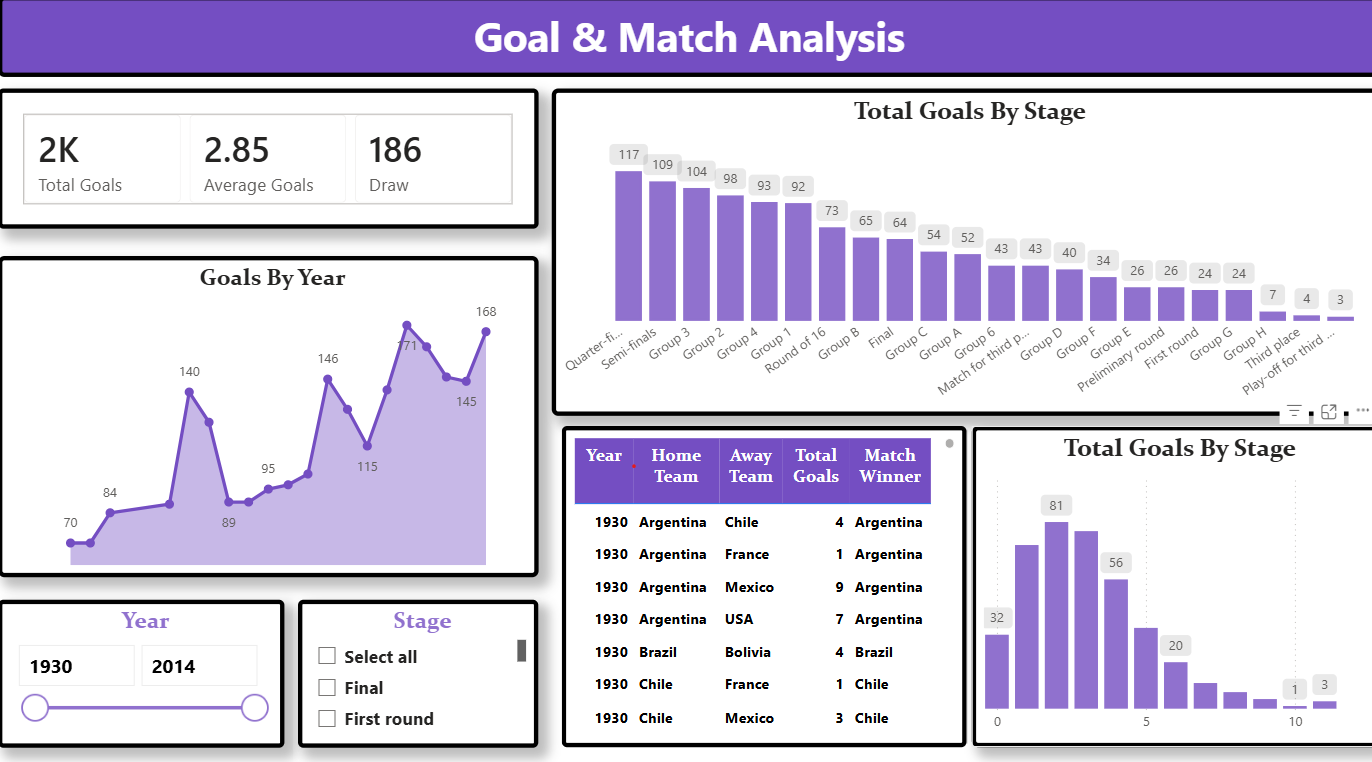

The page's visual inventory and layout, read from the dashboard file:
{"tool":"powerbi","page":{"name":"Goal and Match Analysis","canvas":[1280,720],"ordinal":4},"visuals":[{"type":"textbox","title":"Team Performace Analysis","box":[4.1,0,1270.7,74.1],"z":0},{"type":"cardVisual","fields":{"Data":["WorldCupMatches1.Total Goals In Tournament","WorldCupMatches1.Average Goals","WorldCupMatches1.Draw"]},"box":[4.7,84.9,496.5,129.1],"z":1000},{"type":"areaChart","title":"Goals By Year","fields":{"Category":["WorldCupMatches1.Year"],"Y":["WorldCupMatches1.Total Goals In Tournament"]},"box":[4.7,238.4,496.5,295.3],"z":2000},{"type":"clusteredColumnChart","title":"Total Goals By Stage","fields":{"Category":["WorldCupMatches1.Stage"],"Y":["WorldCupMatches1.Total Goals In Tournament"]},"box":[514,84.9,760.5,301.2],"z":3000},{"type":"clusteredColumnChart","title":"Total Goals By Stage","fields":{"Category":["WorldCupMatches1.Goal Difference"],"Y":["CountNonNull(WorldCupMatches1.MatchID)"]},"box":[900,395.3,374.4,295.3],"z":4000},{"type":"slicer","title":"Year","fields":{"Values":["WorldCupMatches1.Year"]},"box":[4.1,554.4,263.5,135.8],"z":5000},{"type":"slicer","title":"Stage","fields":{"Values":["WorldCupMatches1.Stage"]},"box":[280.2,554.7,220.9,136],"z":6000},{"type":"tableEx","fields":{"Values":["WorldCupMatches1.Year","WorldCupMatches1.Home Team Name","WorldCupMatches1.Away Team Name","WorldCupMatches1.Total Goals","WorldCupMatches1.Match Winner"]},"box":[522.1,395.3,372.1,295.3],"z":7000}]}

Visuals, with their boxes in screenshot pixels (x1, y1, x2, y2), scaled from the page's 1280x720 canvas onto the 1372x762 screenshot:
"Team Performace Analysis" textbox: region(4, 0, 1366, 78)
cardVisual - WorldCupMatches1.Total Goals In Tournament x WorldCupMatches1.Average Goals: region(5, 90, 537, 226)
"Goals By Year" areaChart: region(5, 252, 537, 565)
"Total Goals By Stage" clusteredColumnChart: region(551, 90, 1366, 409)
"Total Goals By Stage" clusteredColumnChart: region(965, 418, 1366, 731)
"Year" slicer: region(4, 587, 287, 730)
"Stage" slicer: region(300, 587, 537, 731)
tableEx - WorldCupMatches1.Year x WorldCupMatches1.Home Team Name: region(560, 418, 958, 731)
